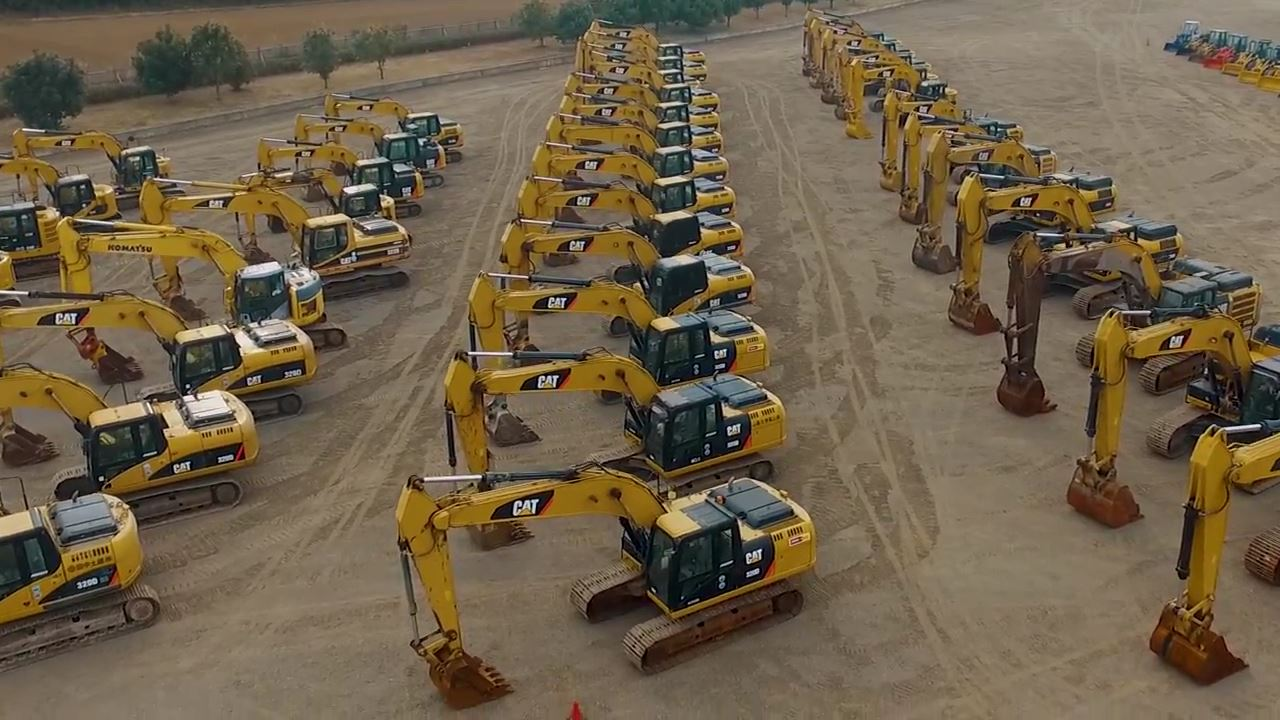con_eq: (382, 463, 854, 714), (434, 341, 795, 488), (995, 218, 1217, 429), (51, 211, 346, 354), (10, 367, 262, 529), (946, 166, 1184, 332), (12, 286, 307, 419), (467, 268, 771, 397), (1064, 303, 1214, 531), (904, 130, 1120, 283), (139, 173, 412, 292), (501, 215, 757, 340), (6, 495, 156, 674), (510, 178, 766, 271), (1150, 405, 1222, 687), (893, 110, 1054, 227), (9, 125, 185, 212), (257, 137, 423, 216), (322, 83, 472, 167), (835, 56, 973, 137), (300, 120, 451, 191), (528, 145, 735, 196), (229, 169, 401, 224), (2, 154, 125, 230), (546, 90, 722, 141), (536, 110, 724, 157), (817, 33, 933, 104), (554, 68, 723, 116), (568, 49, 711, 91), (578, 23, 707, 67), (6, 202, 75, 278), (804, 20, 883, 86), (876, 89, 903, 190), (1165, 19, 1200, 56), (1194, 27, 1221, 65)
